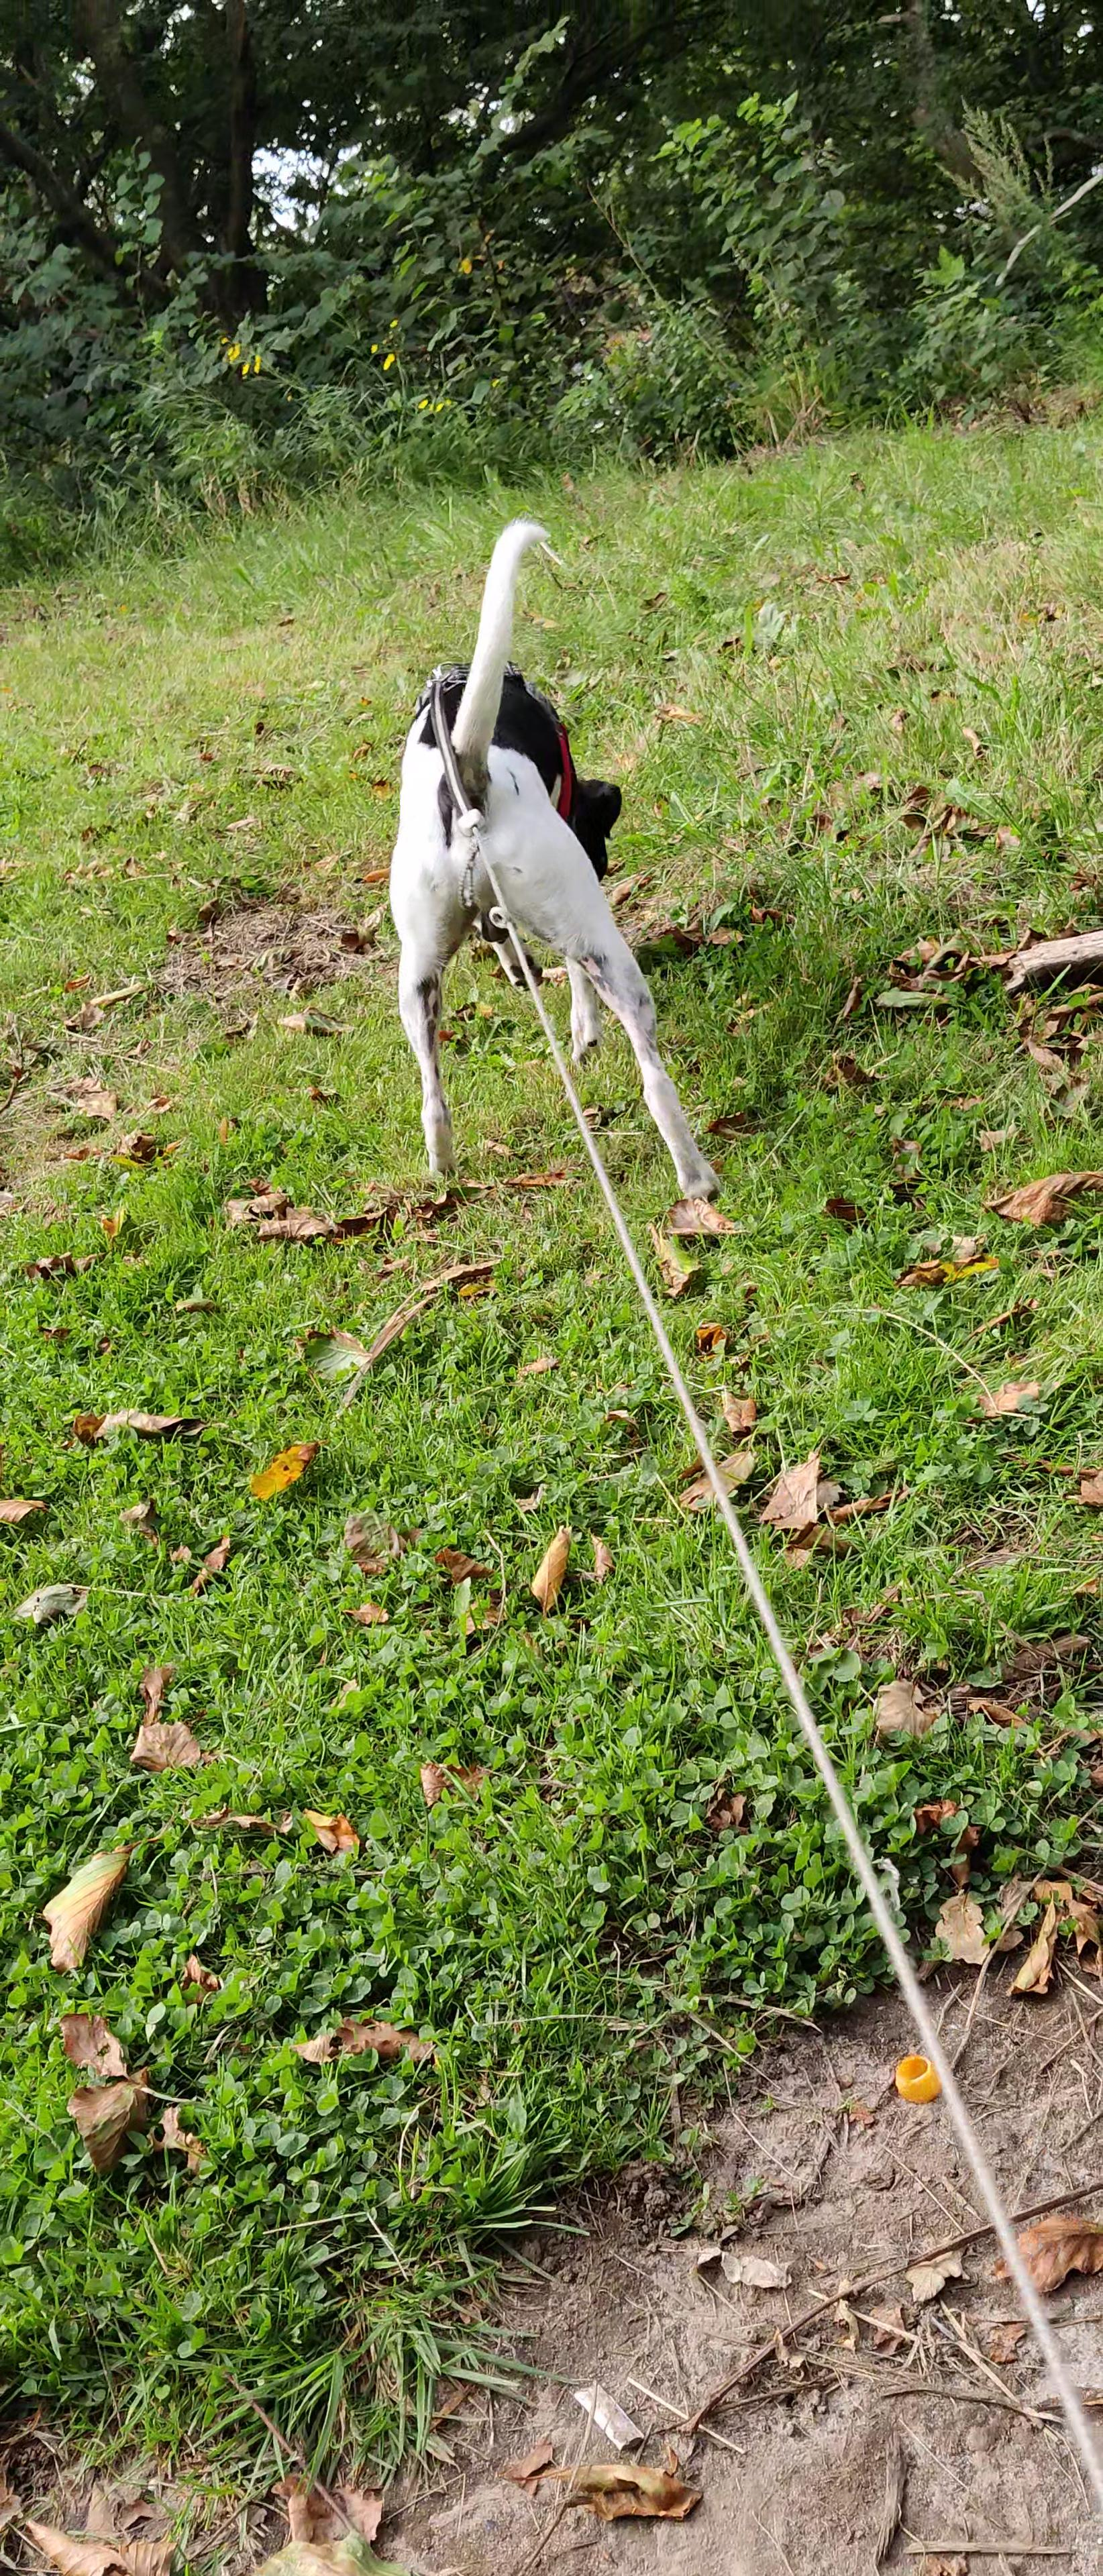Dog: (380, 513, 728, 1209)
